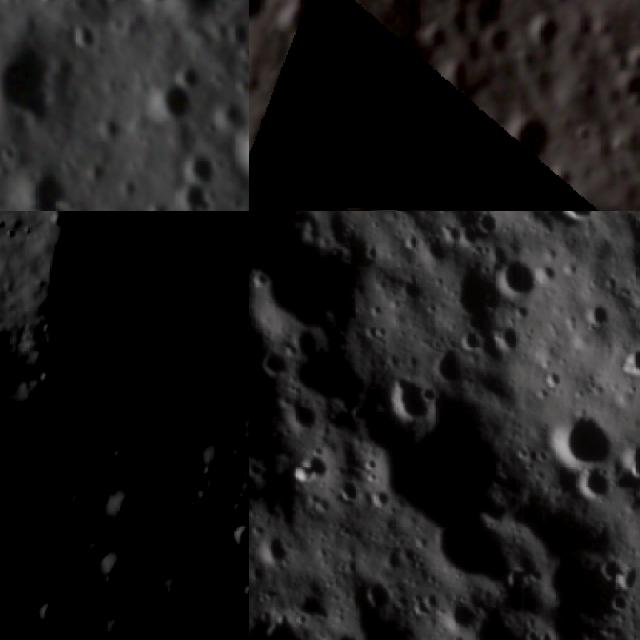crater: (17, 211, 249, 448), (364, 380, 518, 526), (249, 231, 360, 360), (0, 18, 91, 158), (422, 513, 532, 591), (116, 0, 249, 53), (449, 249, 517, 338), (540, 404, 620, 476), (274, 0, 352, 56), (138, 76, 202, 142), (502, 105, 564, 173), (383, 364, 440, 434), (6, 160, 82, 211), (249, 601, 343, 640), (334, 10, 393, 66), (219, 101, 249, 203), (498, 249, 554, 301), (91, 552, 143, 606), (177, 141, 228, 194), (249, 517, 294, 576), (395, 164, 451, 211), (568, 462, 618, 513), (103, 485, 151, 538), (355, 117, 400, 173), (529, 7, 573, 63), (66, 13, 113, 64), (274, 387, 325, 433), (166, 172, 226, 211), (297, 109, 341, 161), (466, 0, 517, 41), (431, 339, 468, 388), (404, 125, 446, 168), (25, 386, 65, 428), (262, 335, 296, 380), (413, 54, 446, 100), (611, 336, 640, 387), (598, 545, 633, 587), (442, 52, 473, 98), (166, 571, 204, 607), (580, 292, 616, 329), (66, 484, 100, 522), (34, 602, 70, 635), (618, 432, 640, 481), (536, 254, 563, 292), (231, 524, 249, 564), (327, 623, 360, 640), (0, 505, 11, 537)
